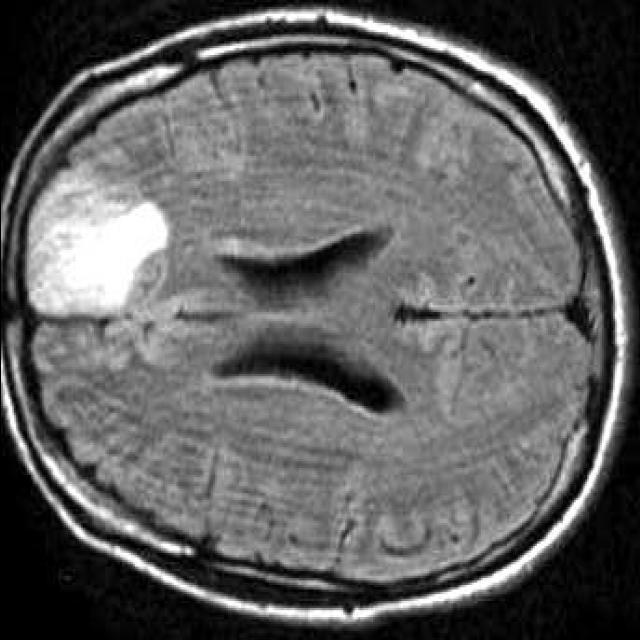tumor: (24, 165, 167, 317)
